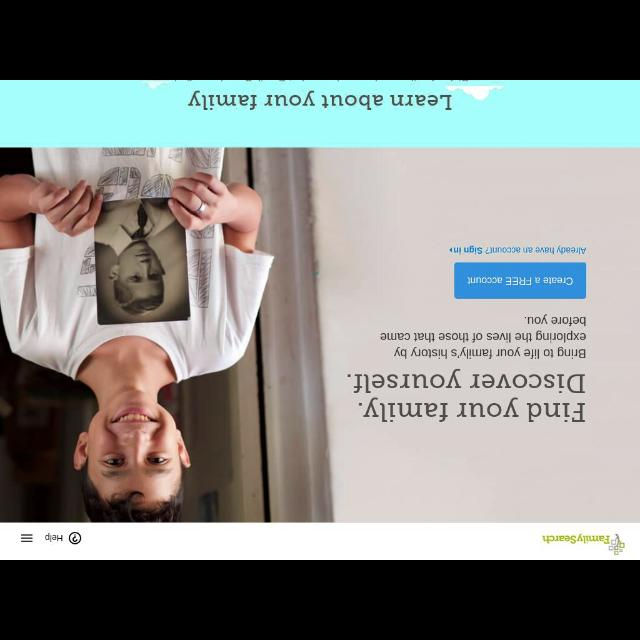backgroundimage: (1, 148, 639, 522)
icon: (68, 532, 82, 544), (21, 533, 34, 543)
image: (543, 532, 625, 554)
text: (348, 370, 584, 424), (379, 313, 586, 359), (188, 88, 452, 114), (448, 242, 586, 254), (466, 275, 574, 285), (44, 533, 64, 541)
textbutton: (455, 264, 587, 298)
toolbar: (1, 523, 639, 559)
